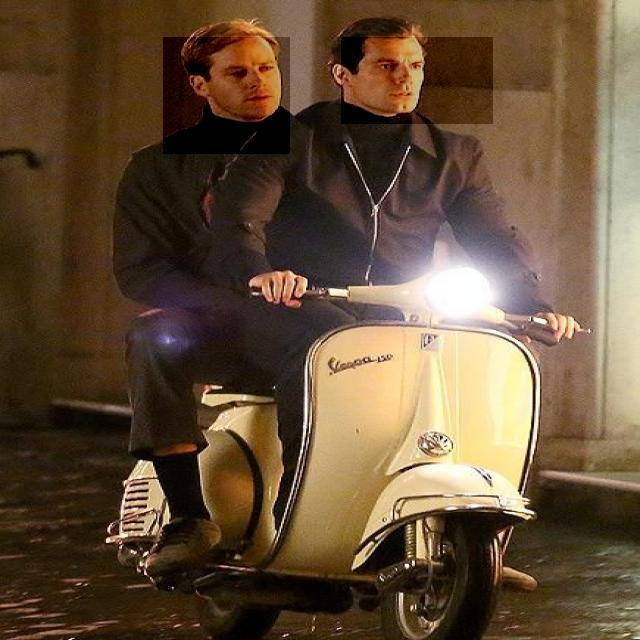No_Helmet: (163, 37, 290, 154), (341, 37, 493, 124)
